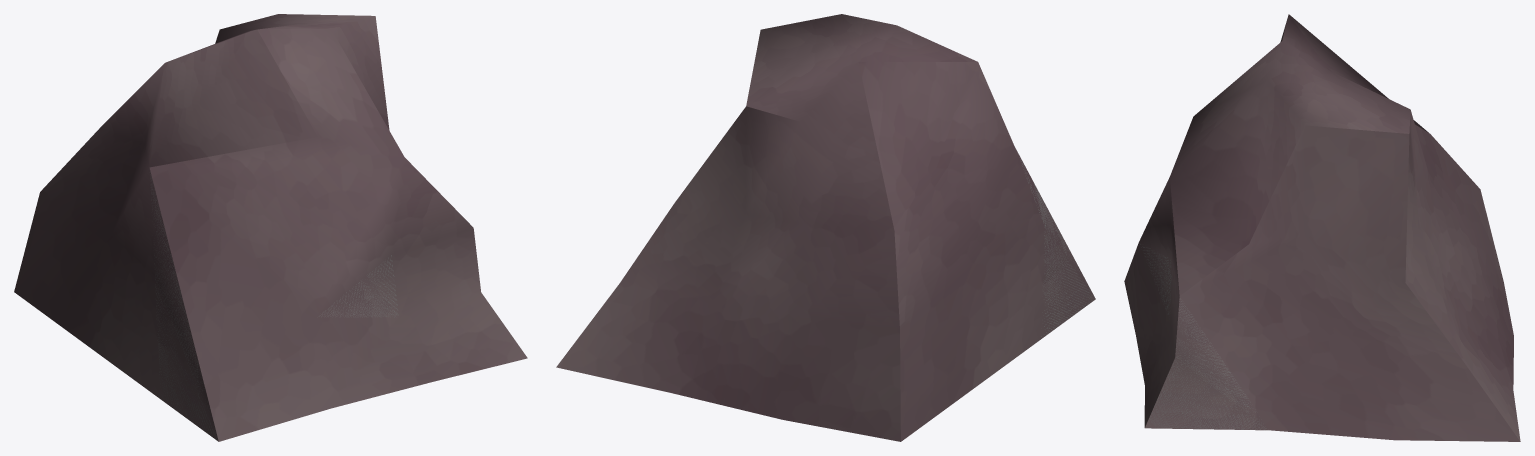
The model's file is m_Rock1.obj.
3 views of the same model, side by side, from view 1: azimuth 30°, elevation 25°; view 2: azimuth 150°, elevation 25°; view 3: azimuth 270°, elevation 25° (orthographic). The views are drawn at different scales.
Visible parts, largest first — view 1: pCube2, pCube1; view 2: pCube2, pCube1; view 3: pCube2, pCube1.
Boxes of the visible parts, <box> form: pCube2: <box>14,14,527,441</box>; pCube1: <box>150,174,398,439</box>; pCube2: <box>556,14,1095,441</box>; pCube1: <box>1016,150,1094,336</box>; pCube2: <box>1124,14,1520,441</box>; pCube1: <box>1140,244,1266,429</box>.
Bounding box in the file's own units: 2.62 × 2.26 × 2.71.
2 materials, 1 textured.
